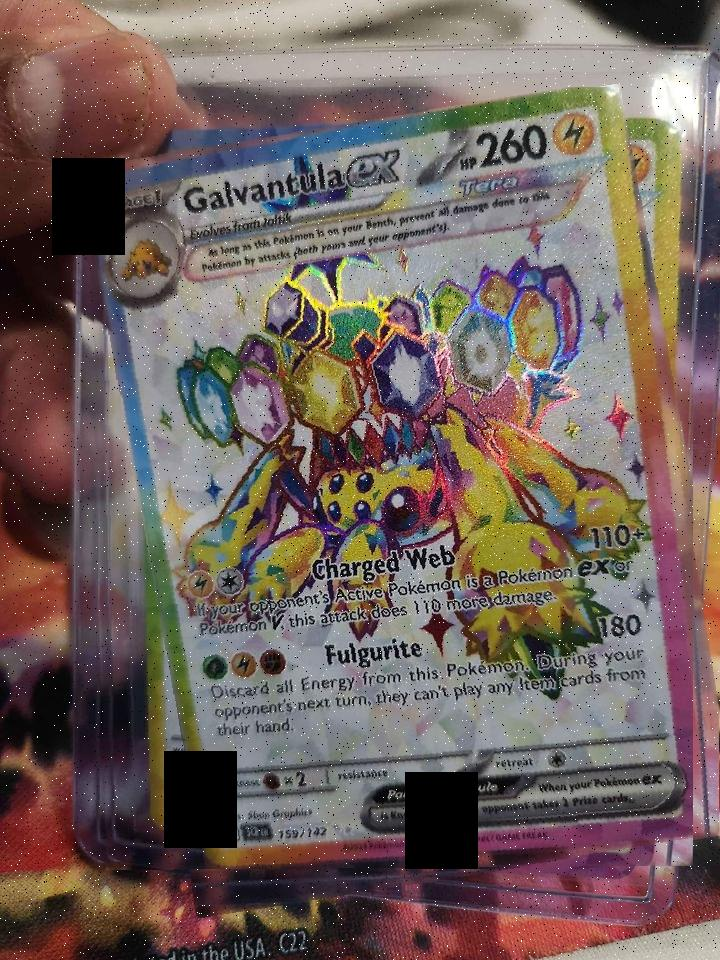card: (92, 87, 693, 869)
